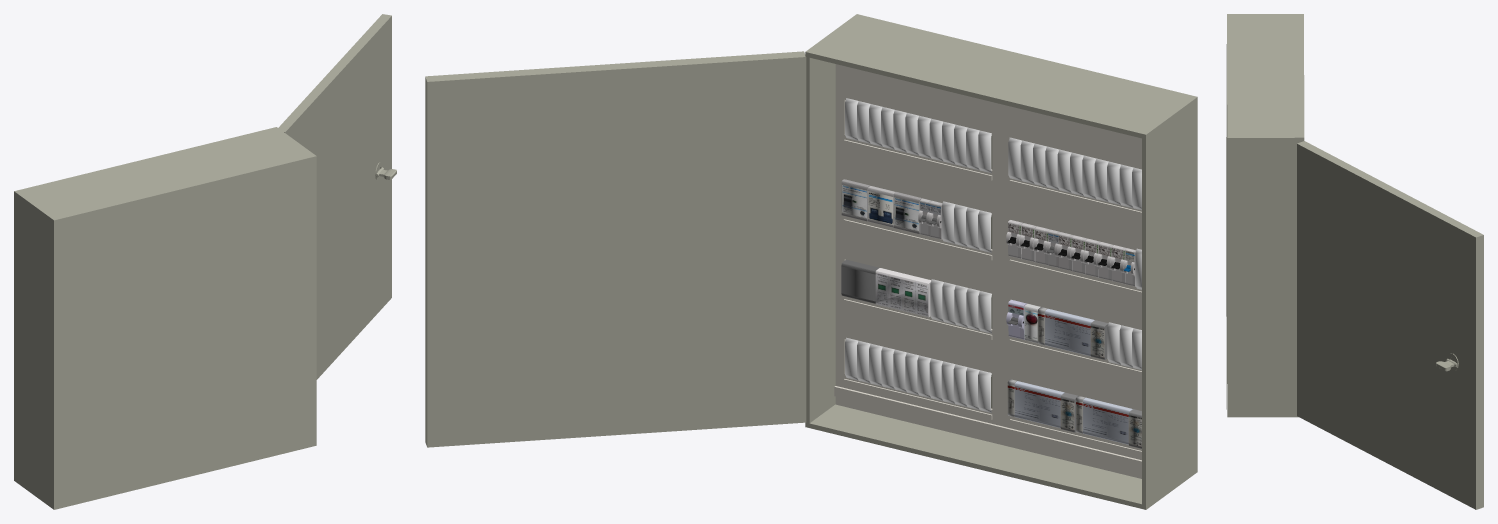
The model's file is DistB6.fbx.
The picture shows the model from 3 angles, left to right: view 1: azimuth 30°, elevation 25°; view 2: azimuth 150°, elevation 25°; view 3: azimuth 270°, elevation 25°; orthographic projection. The views are drawn at different scales.
Visible parts, largest first — view 1: Mesh3, Mesh1; view 2: Mesh1, Mesh4, Mesh3, surge, ABB_2, ABB_1, ABB_2.001, Cube.001, Hager_switch_1, Hager_switch_2, Andeli_cb; view 3: Mesh1, Mesh3.
Part boxes in pixels (bbox=[...]): Mesh3: bbox=[14, 127, 316, 509]; Mesh1: bbox=[278, 14, 396, 379]; Mesh1: bbox=[425, 51, 806, 447]; Mesh4: bbox=[834, 64, 1141, 478]; Mesh3: bbox=[805, 14, 1197, 509]; surge: bbox=[875, 268, 931, 317]; ABB_2: bbox=[1014, 381, 1064, 427]; ABB_1: bbox=[1045, 308, 1094, 356]; ABB_2.001: bbox=[1083, 397, 1132, 444]; Cube.001: bbox=[841, 259, 879, 303]; Hager_switch_1: bbox=[841, 179, 869, 221]; Hager_switch_2: bbox=[893, 192, 921, 234]; Andeli_cb: bbox=[868, 186, 895, 227]; Mesh1: bbox=[1297, 141, 1483, 509]; Mesh3: bbox=[1226, 14, 1304, 417].
Size of the model in its own units: 1351 by 669 by 800.
Materials: 31 (11 with a texture image).
